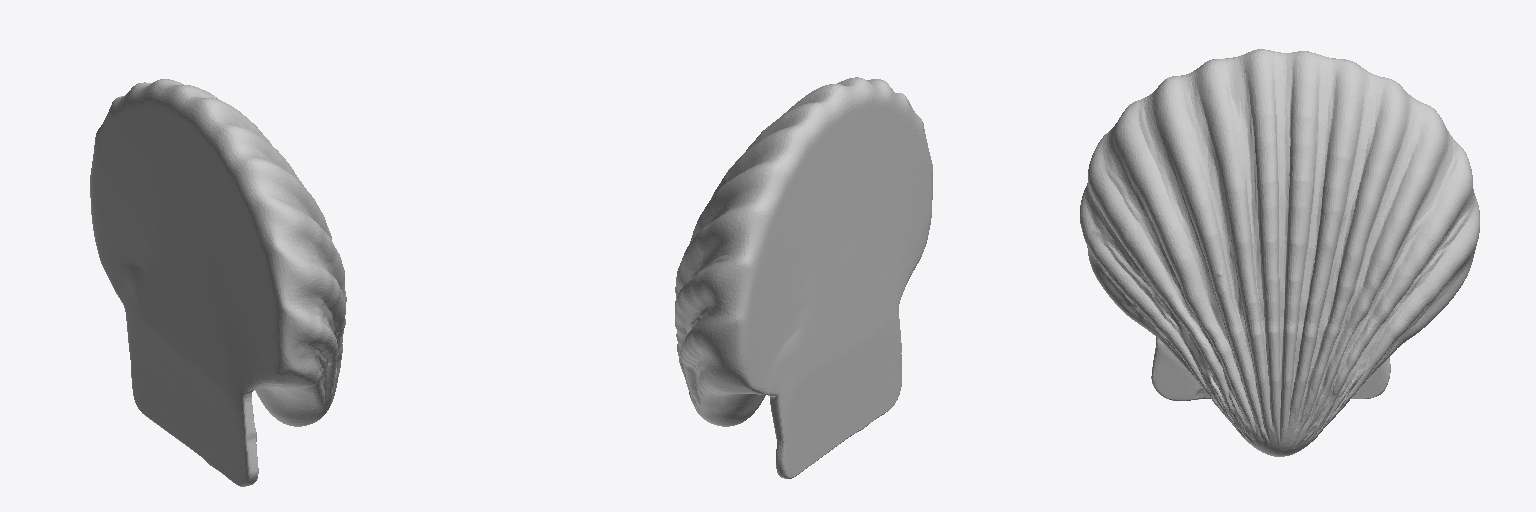
The model's file is Pecten.obj.
3 views of the same model, side by side, from view 1: azimuth 30°, elevation 25°; view 2: azimuth 150°, elevation 25°; view 3: azimuth 270°, elevation 25° (orthographic).
Visible parts, largest first — view 1: tripo_node_c90ec18d-69f1-4d07-be73-494cdc07d0df; view 2: tripo_node_c90ec18d-69f1-4d07-be73-494cdc07d0df; view 3: tripo_node_c90ec18d-69f1-4d07-be73-494cdc07d0df.
Part boxes in pixels (x1,y1,x2,y2): tripo_node_c90ec18d-69f1-4d07-be73-494cdc07d0df: (90, 79, 346, 486); tripo_node_c90ec18d-69f1-4d07-be73-494cdc07d0df: (675, 77, 932, 478); tripo_node_c90ec18d-69f1-4d07-be73-494cdc07d0df: (1080, 49, 1479, 456).
Size of the model in its own units: 0.4221 by 0.9774 by 1.